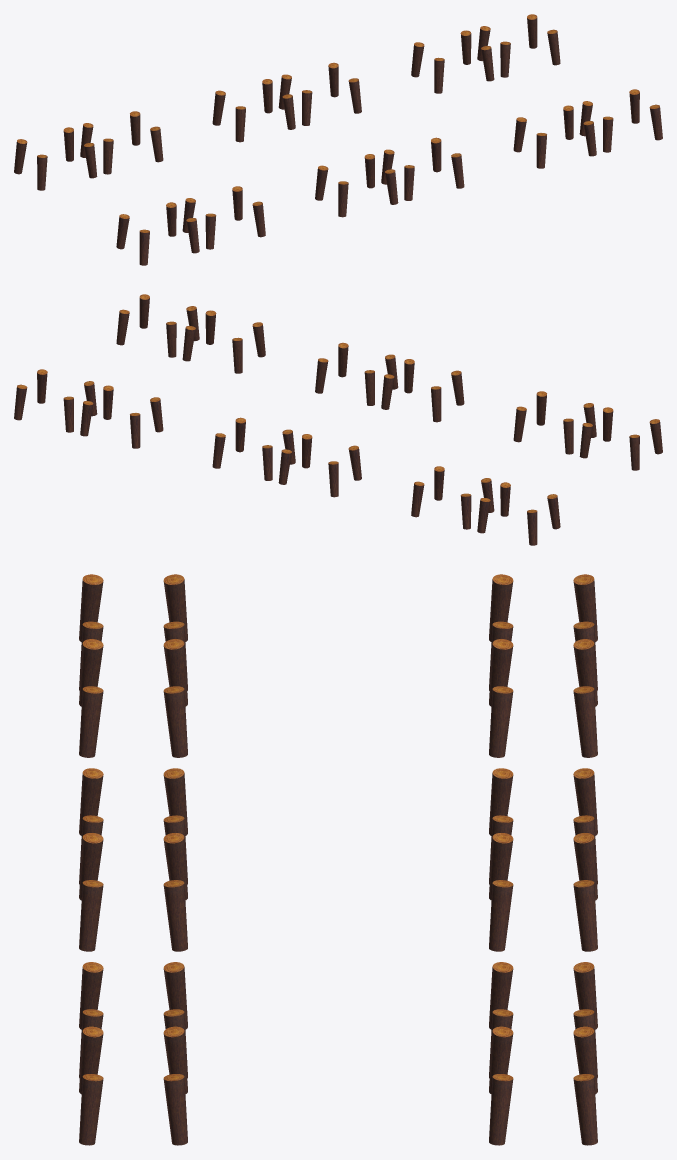
Rendered from sofaleg.obj.
3 views of the same model, one above another, from view 1: azimuth 30°, elevation 25°; view 2: azimuth 150°, elevation 25°; view 3: azimuth 270°, elevation 25° (orthographic). The views are drawn at different scales.
Parts seen in each view (by area): view 1: no part large enough to name; view 2: no part large enough to name; view 3: group62 pCylinder6, group62 pCylinder34, group62 pCylinder8, group62 pCylinder19, group62 pCylinder28, group62 pCylinder31, group62 pCylinder33, group62 pCylinder44, group62 pCylinder14, group62 pCylinder20, group62 pCylinder7, group62 pCylinder35 (+24 smaller).
Boxes of the visible parts, x1=… form: group62 pCylinder6: x1=573, y1=1074, x2=597, y2=1145; group62 pCylinder34: x1=79, y1=1074, x2=103, y2=1145; group62 pCylinder8: x1=79, y1=880, x2=103, y2=951; group62 pCylinder19: x1=573, y1=880, x2=597, y2=951; group62 pCylinder28: x1=163, y1=686, x2=187, y2=757; group62 pCylinder31: x1=79, y1=686, x2=103, y2=757; group62 pCylinder33: x1=573, y1=686, x2=597, y2=757; group62 pCylinder44: x1=489, y1=686, x2=513, y2=757; group62 pCylinder14: x1=163, y1=880, x2=187, y2=951; group62 pCylinder20: x1=489, y1=880, x2=513, y2=951; group62 pCylinder7: x1=489, y1=1074, x2=513, y2=1145; group62 pCylinder35: x1=163, y1=1074, x2=187, y2=1145.
Size of the model in its own units: 447 by 26.44 by 192.
